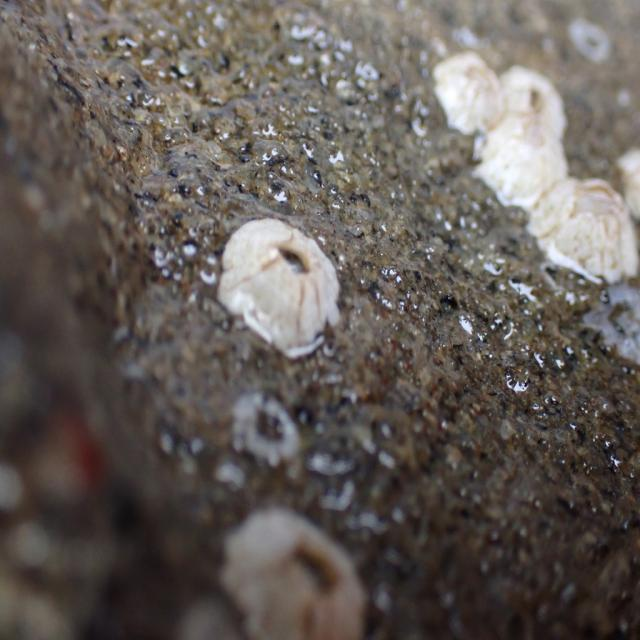barnacles: (213, 214, 342, 362), (220, 510, 362, 640), (522, 167, 634, 288), (505, 59, 573, 140), (434, 48, 498, 130)
